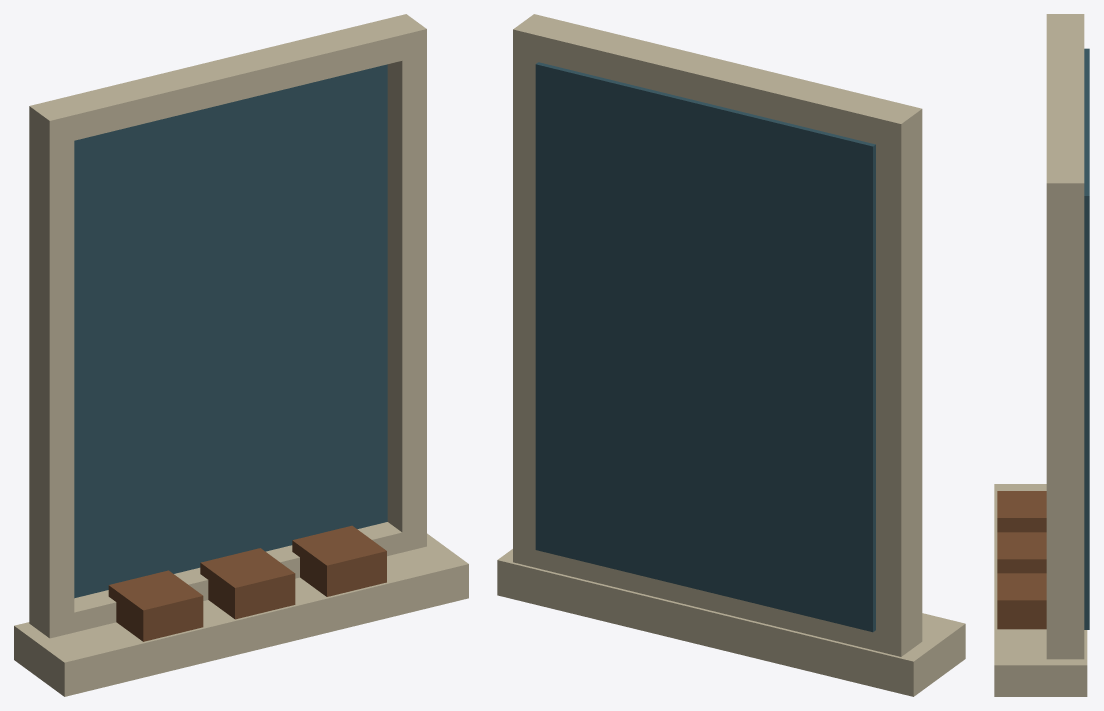
The model's file is window_15.glb.
3 renders of one model, left to right at view 1: azimuth 30°, elevation 25°; view 2: azimuth 150°, elevation 25°; view 3: azimuth 270°, elevation 25°, orthographic. The views are drawn at different scales.
Parts seen in each view (by area): view 1: window_15; view 2: window_15; view 3: window_15.
Part boxes in pixels (<box>): window_15: <box>14,14,468,696</box>; window_15: <box>497,14,965,696</box>; window_15: <box>994,14,1089,696</box>.
Bounding box in the file's own units: 1.48 × 1.93 × 0.3275.
